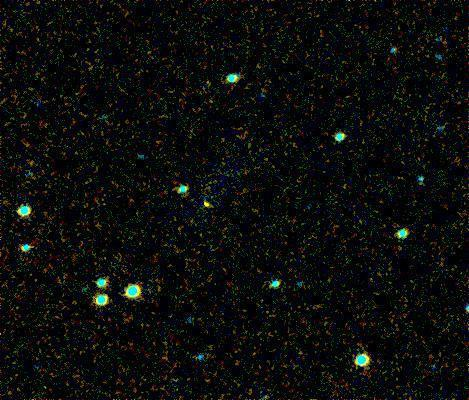star: (195, 189, 225, 219)
